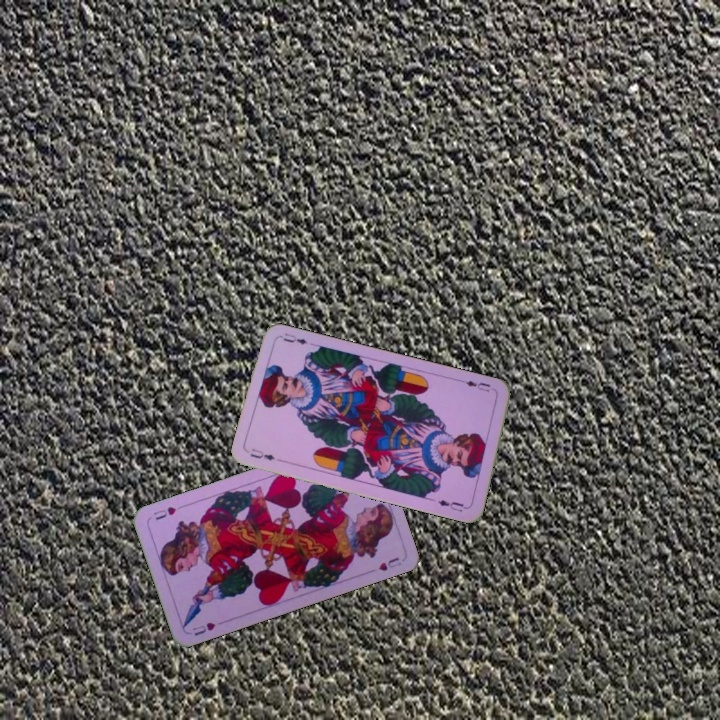EU: (461, 376, 493, 395), (246, 444, 278, 463)
HU: (188, 618, 218, 638)
